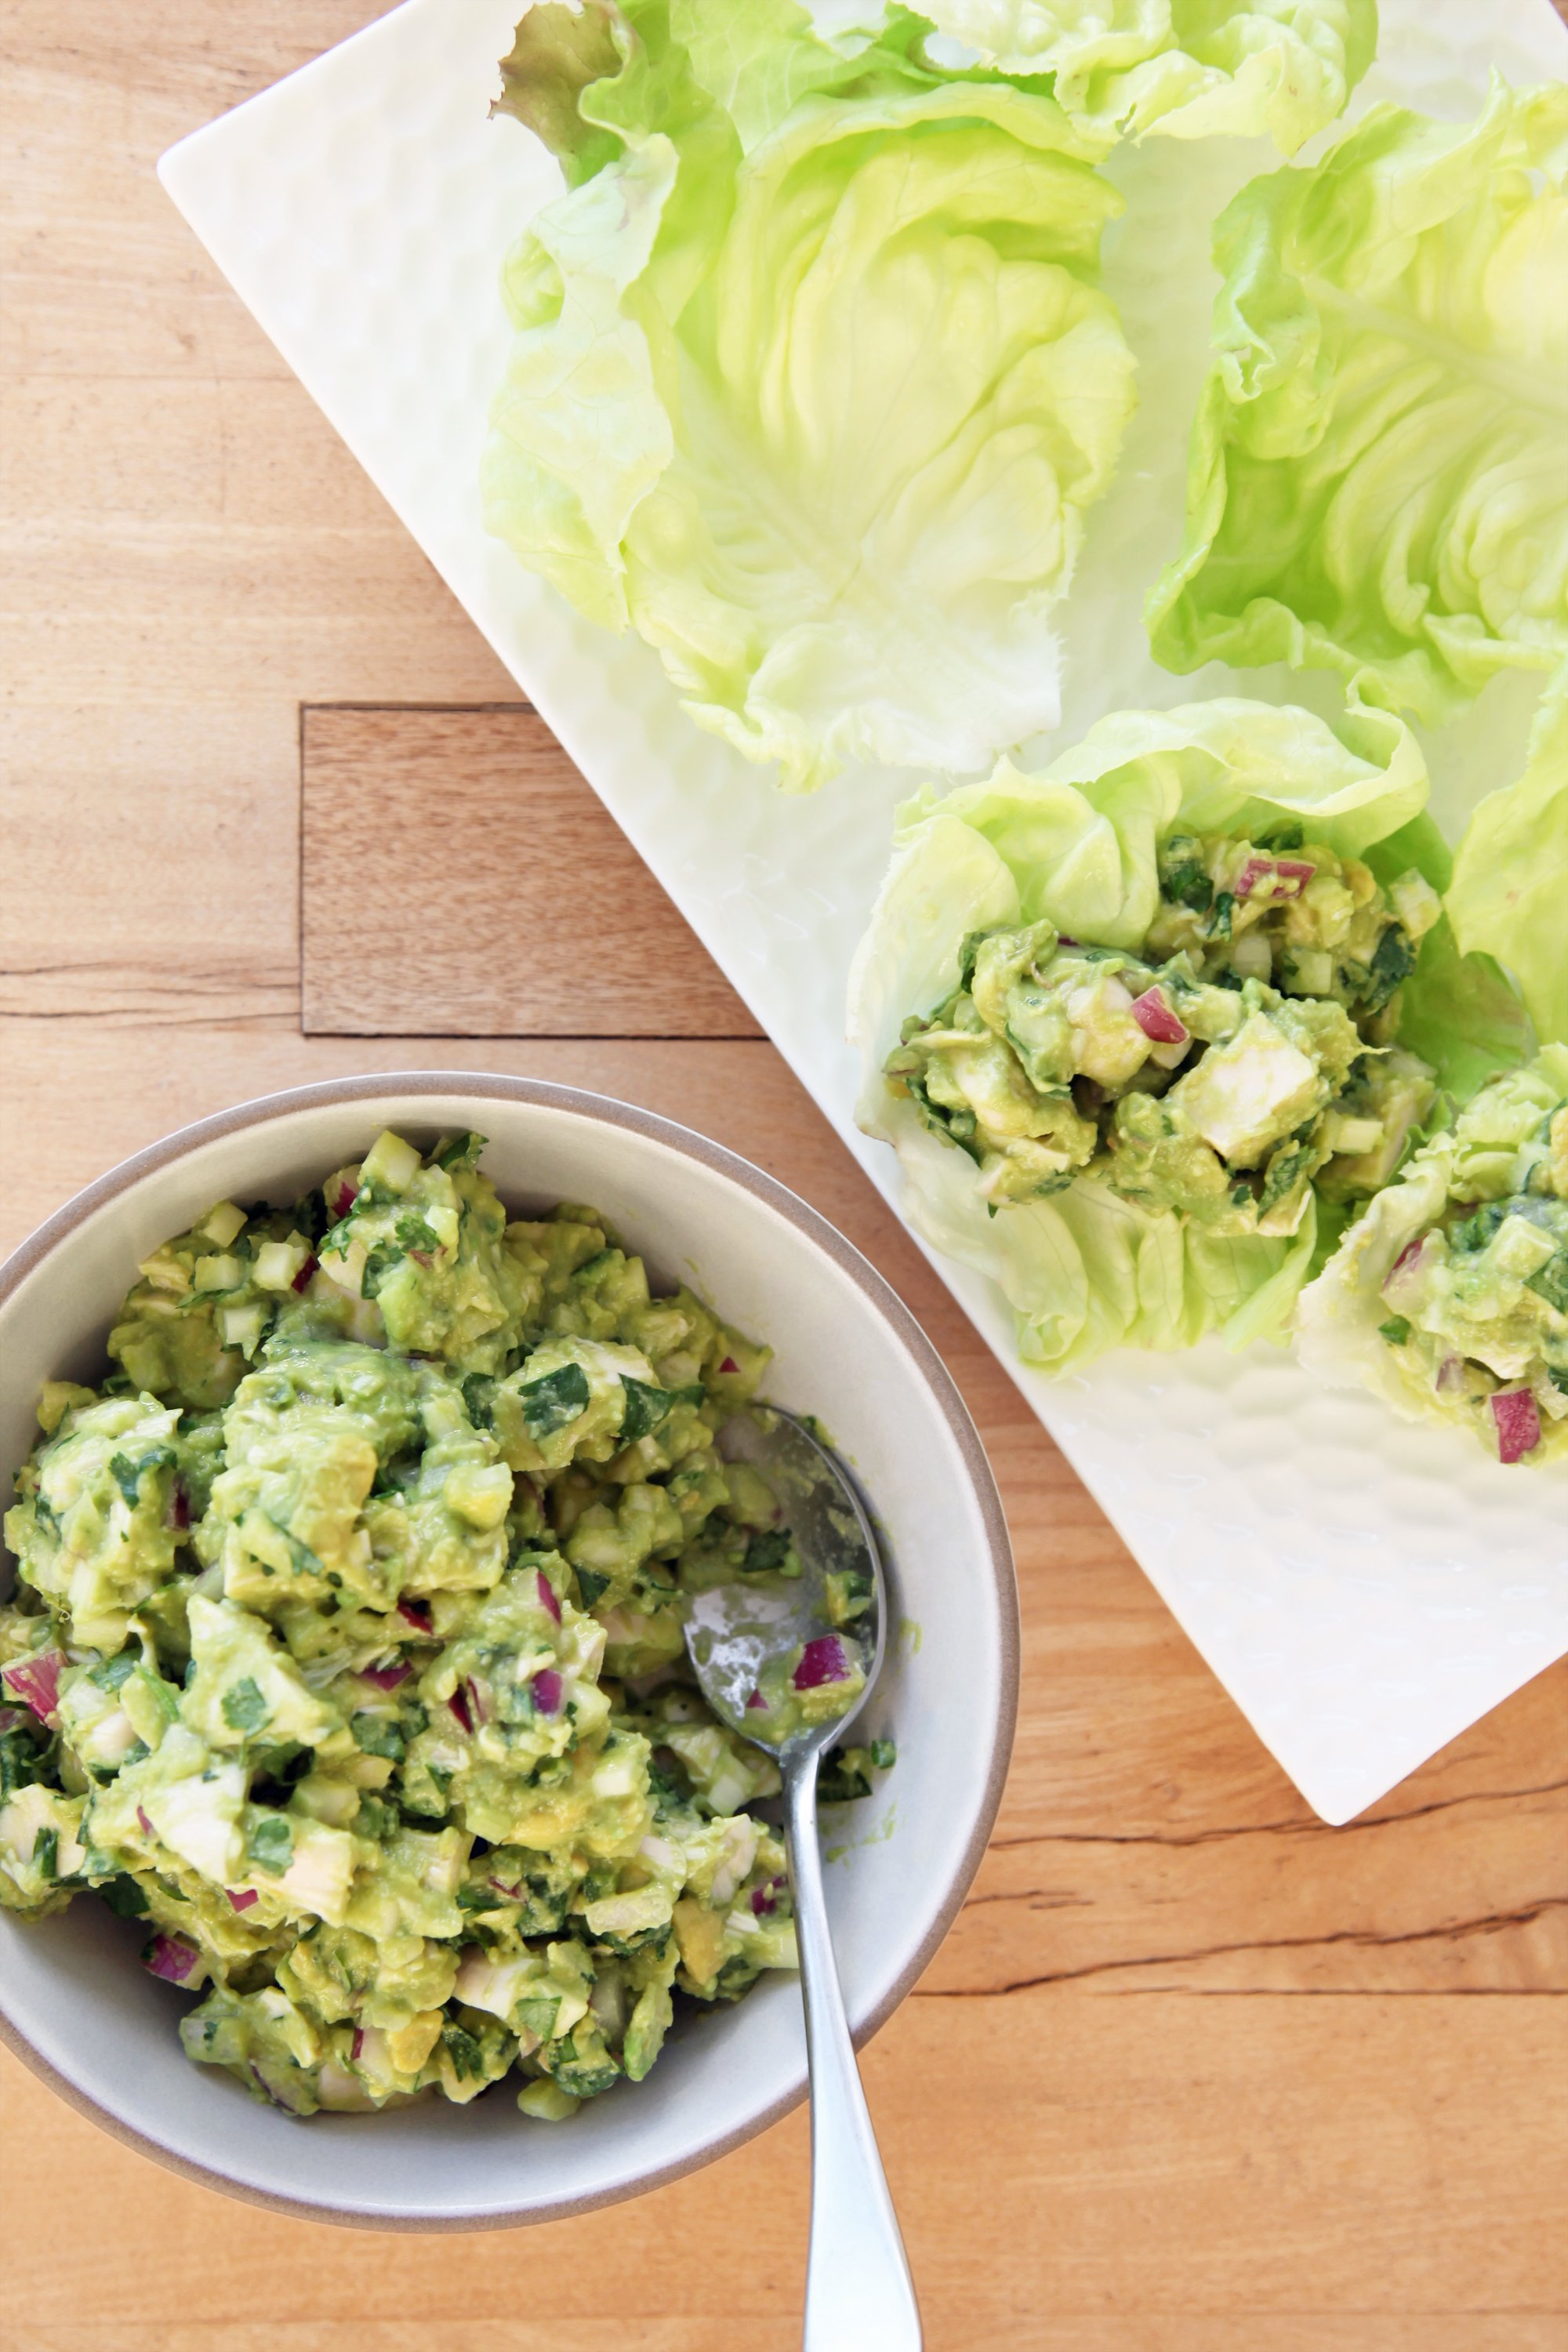chopped lettuce: (539, 35, 1568, 838)
